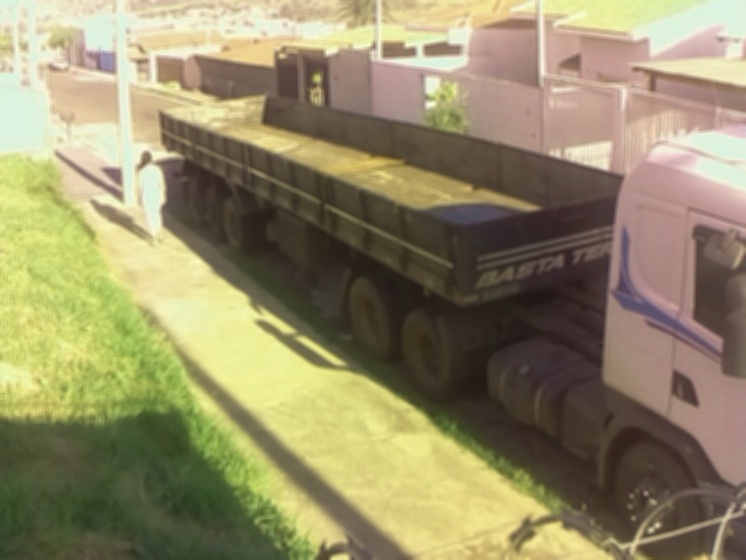person: (133, 149, 172, 250)
